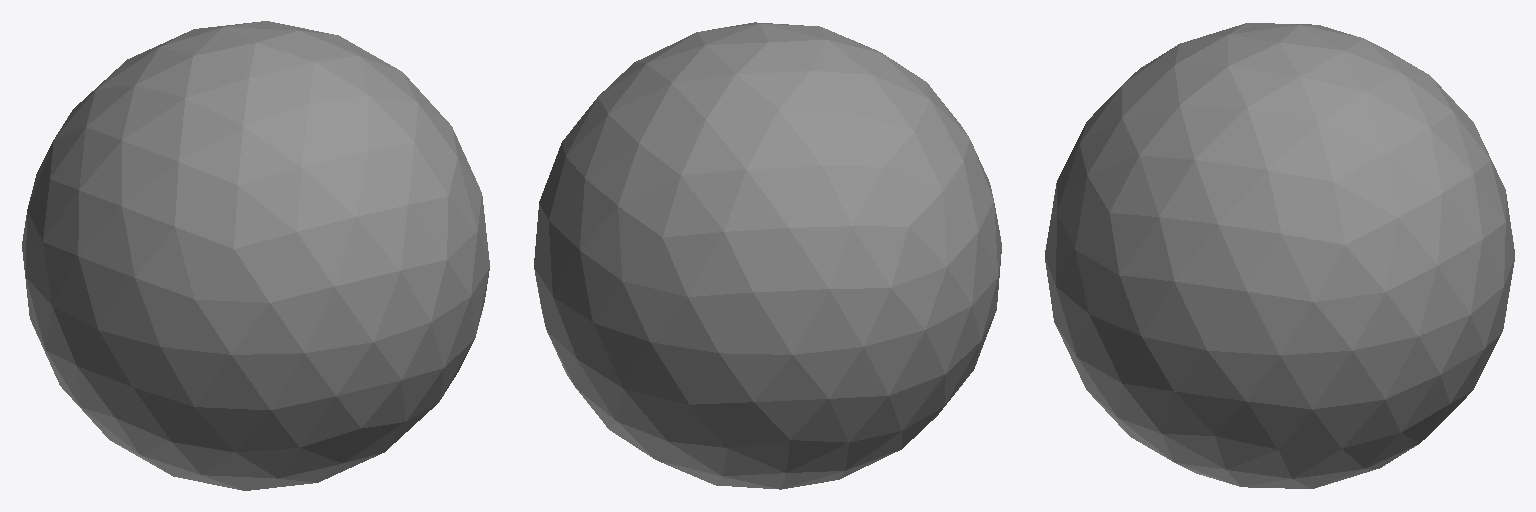
File: ball.obj
The picture shows the model from 3 angles: view 1: azimuth 30°, elevation 25°; view 2: azimuth 150°, elevation 25°; view 3: azimuth 270°, elevation 25°; orthographic projection.
Parts seen in each view (by area): view 1: ball.obj; view 2: ball.obj; view 3: ball.obj.
Part boxes in pixels (bbox=[...]): ball.obj: bbox=[22, 21, 489, 490]; ball.obj: bbox=[534, 22, 1001, 489]; ball.obj: bbox=[1045, 23, 1514, 488].
Size of the model in its own units: 5 by 5 by 5.